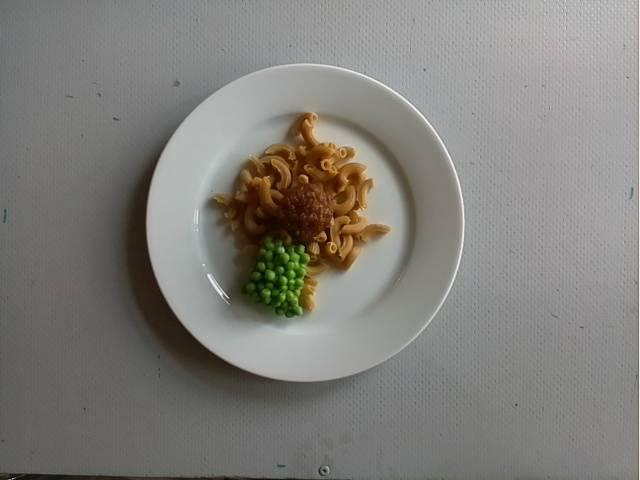Full grain pasta + peas + meatball: (210, 116, 383, 323)
